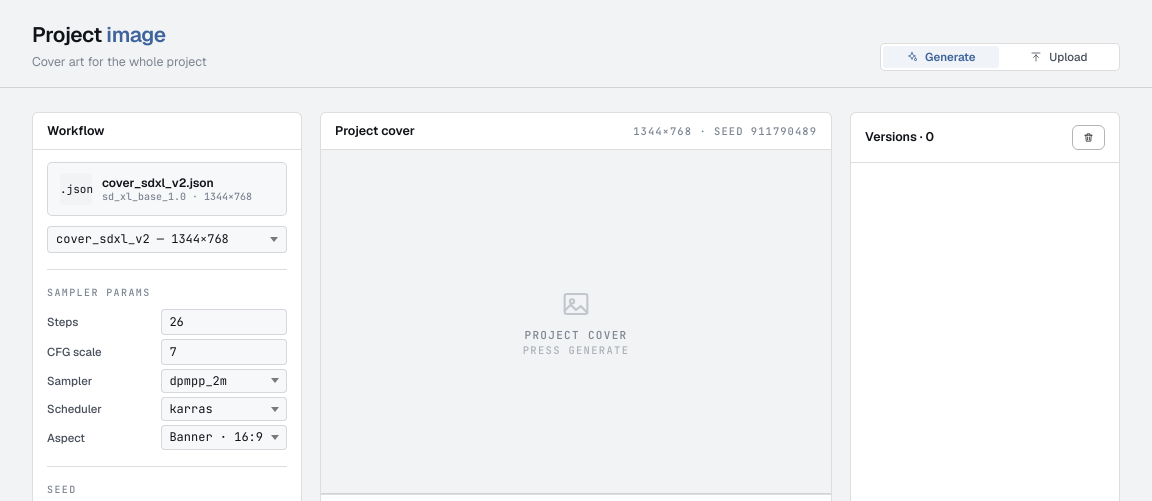
Test case: ProjectImageScreen › applies the turbo cfg and steps when selecting the krea2 workflow
The width and height of the screenshot is (1152, 501).
Click the dropdown named "Workflow". click: (167, 240)
box: [47,226,287,253]
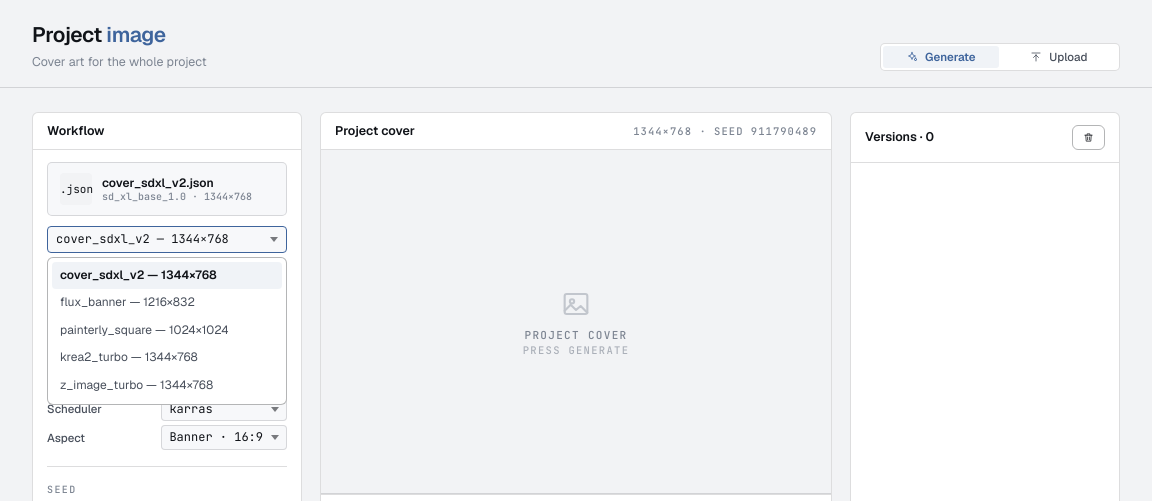
Click the option "krea2_turbo — 1344×768". click: (129, 357)
box: [60,349,198,365]
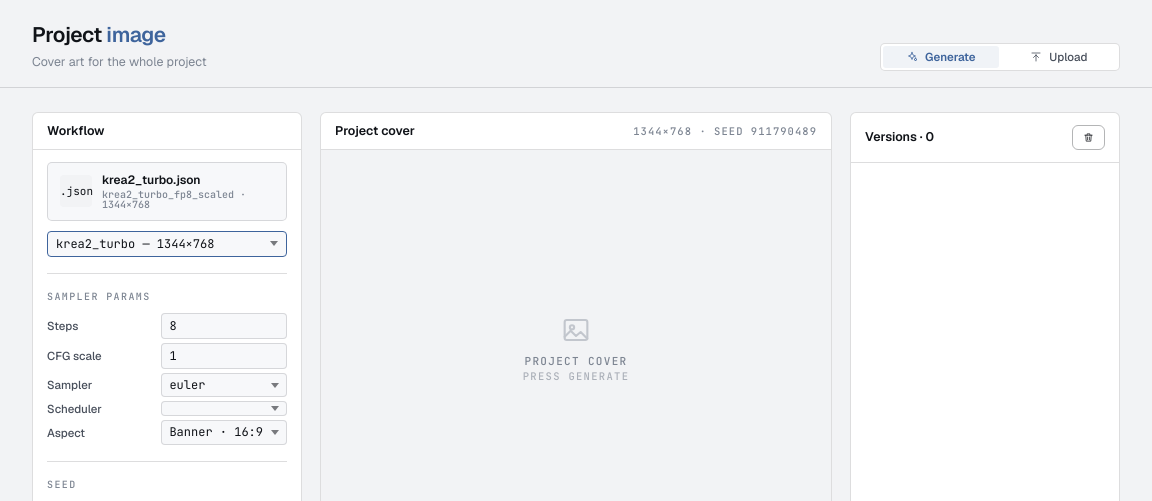
expect the number field labelled "CFG scale" holds "1": met, box [161,343,287,369]
expect the number field labelled "Steps" holds "8": met, box [161,313,287,339]
